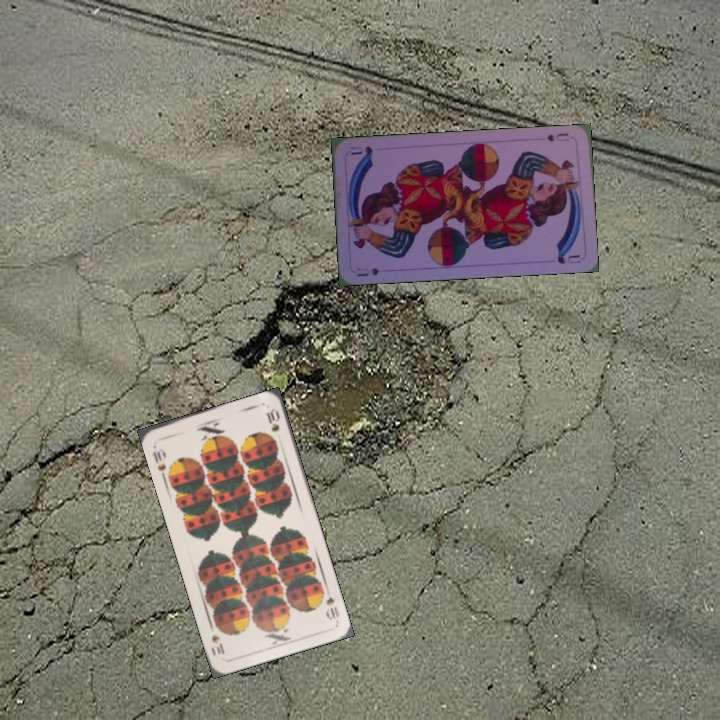S10: (148, 441, 168, 474), (322, 592, 342, 622)
SU: (353, 264, 382, 279), (543, 129, 571, 144)
